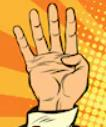right: (11, 2, 92, 103)
